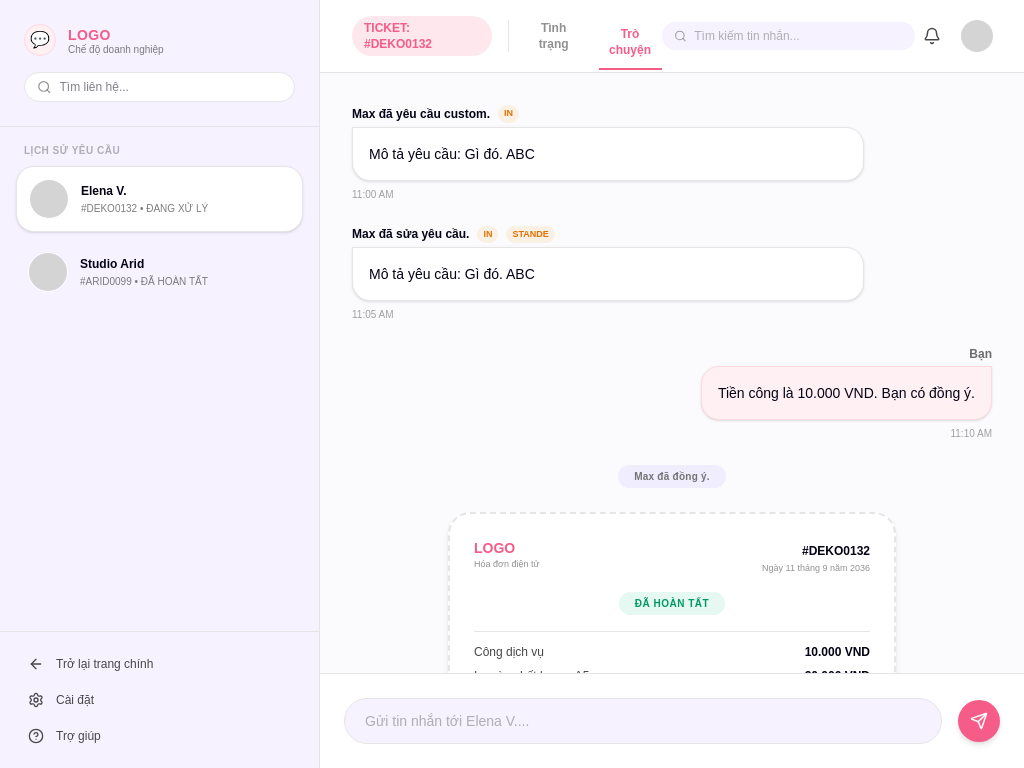
CustomRequestsPage › nên hiển thị danh sách chat, ticket code và cho phép chuyển đổi liên hệ
Expected: the heading "Elena V." is shown, [81, 184, 127, 198]
Expected: the heading "Studio Arid" is shown, [80, 256, 144, 270]
# Chuyển sang Studio Arid
Click the button "Studio Arid #ARID0099 • ĐÃ HOÀN TẤT" at (48, 272), box [16, 240, 303, 304]
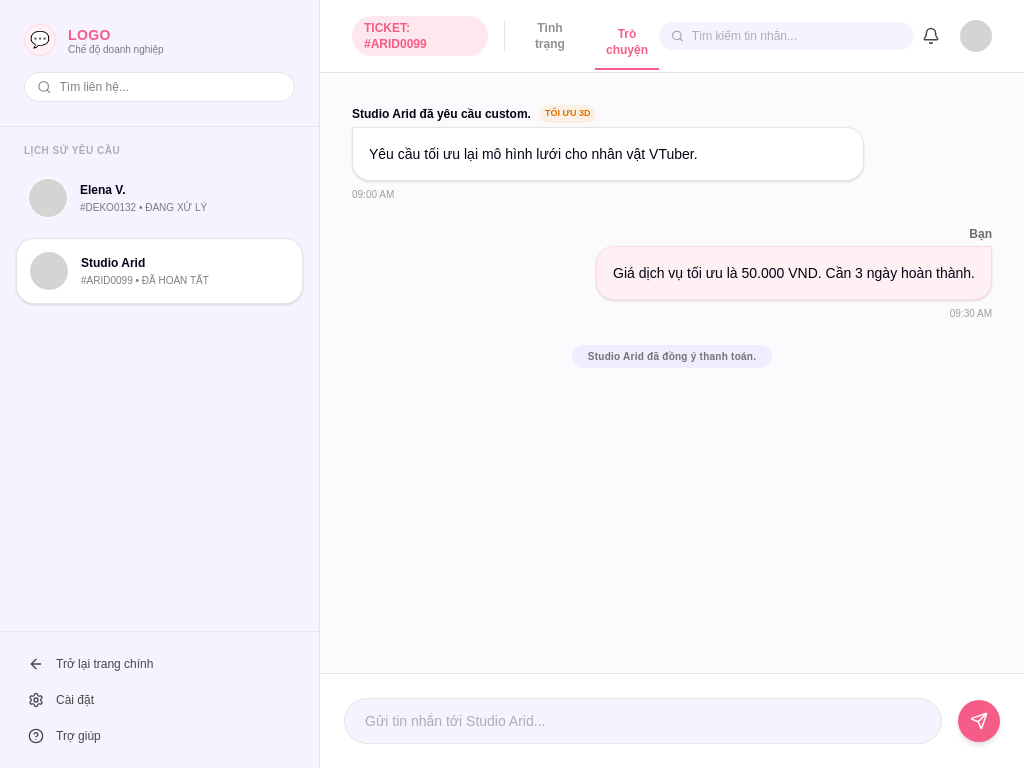
Expected: the text "TICKET: #ARID0099" is shown, [352, 16, 488, 56]
